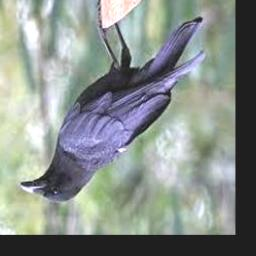Crow: (21, 0, 208, 203)
